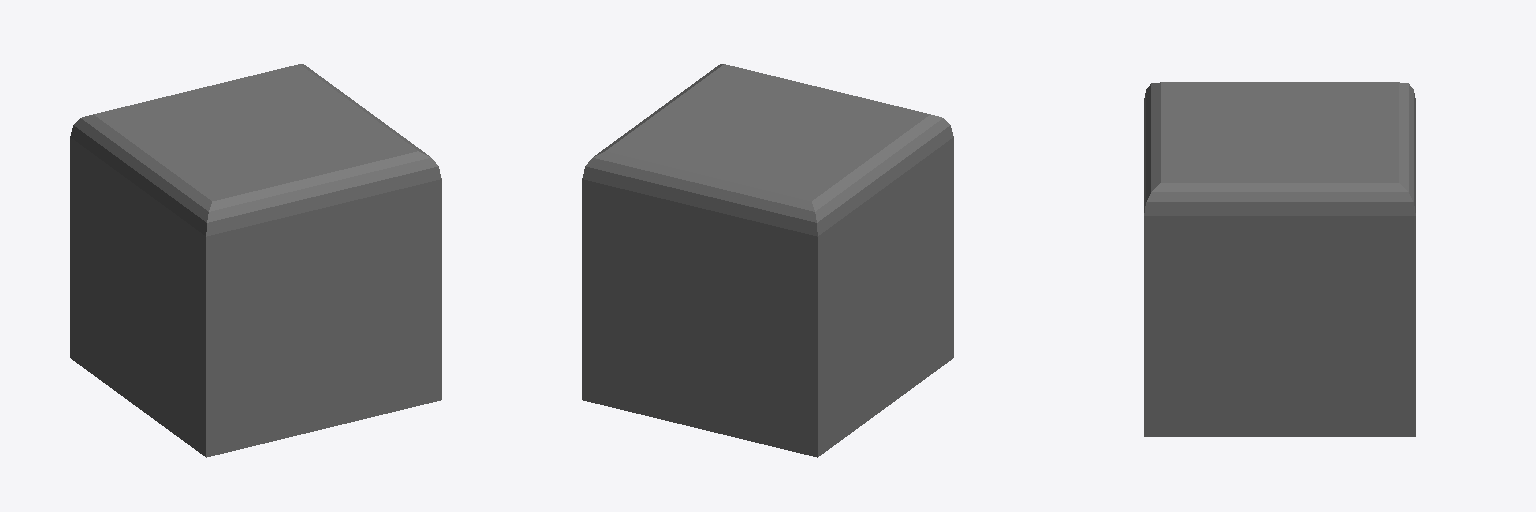
The model's file is box2round.obj.
The picture shows the model from 3 angles: view 1: azimuth 30°, elevation 25°; view 2: azimuth 150°, elevation 25°; view 3: azimuth 270°, elevation 25°; orthographic projection.
Visible parts, largest first — view 1: box2:pCube1; view 2: box2:pCube1; view 3: box2:pCube1.
Boxes of the visible parts, box(x1,y1,x2,y2) form: box2:pCube1: box(70, 64, 441, 457); box2:pCube1: box(582, 64, 953, 457); box2:pCube1: box(1144, 82, 1415, 436).
Size of the model in its own units: 1.5 by 1.5 by 1.5.